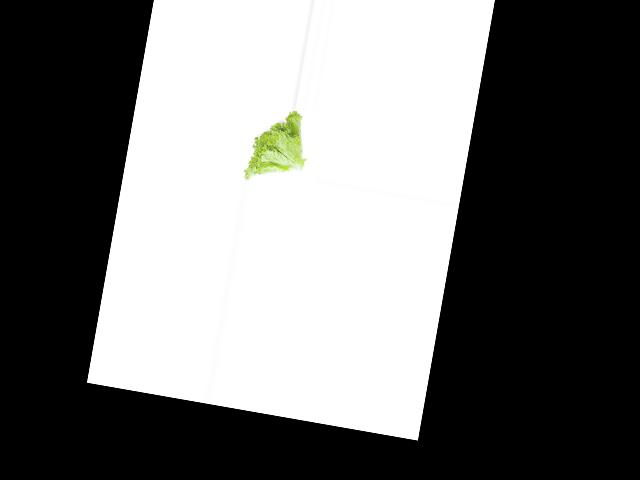lettuce: (240, 102, 313, 190)
